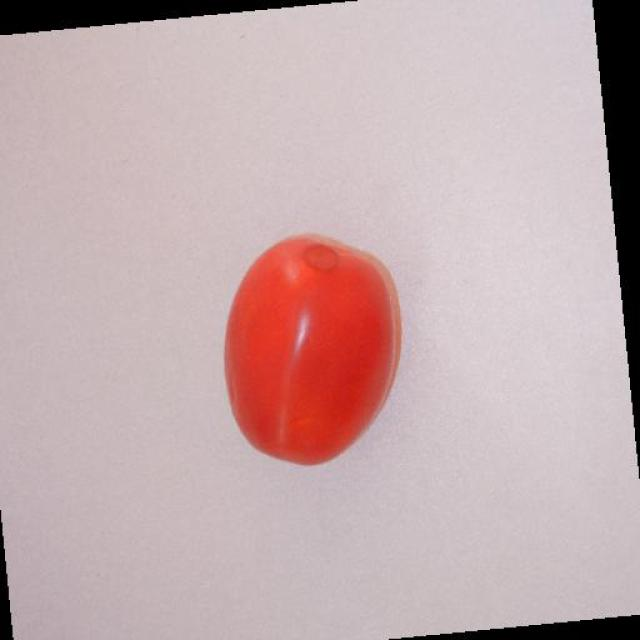Fresh_tomato: (229, 240, 398, 468)
